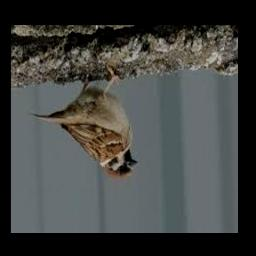Sparrow: (30, 67, 139, 179)
